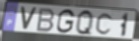1: (120, 12, 130, 39)
B: (35, 7, 56, 33)
C: (94, 12, 114, 36)
G: (55, 9, 76, 35)
Q: (75, 9, 94, 38)
V: (19, 6, 38, 32)
